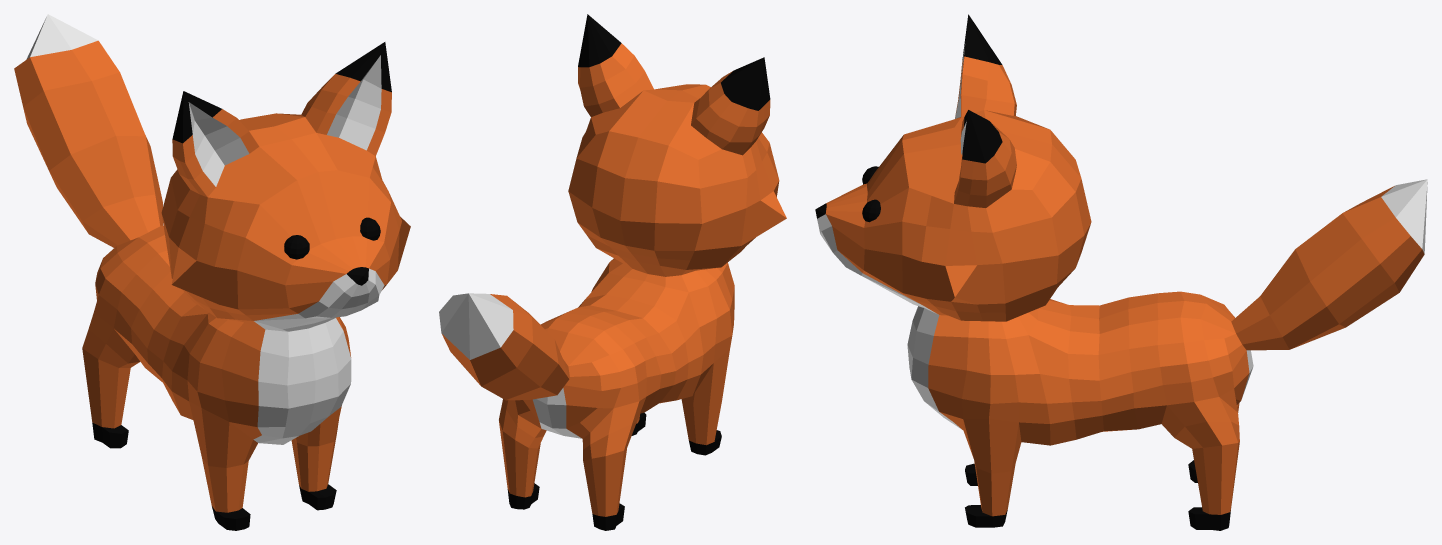
File: fox 2.fbx
The picture shows the model from 3 angles, left to right: view 1: azimuth 30°, elevation 25°; view 2: azimuth 150°, elevation 25°; view 3: azimuth 270°, elevation 25°; orthographic projection. The views are drawn at different scales.
Visible parts, largest first — view 1: Cube, Sphere.001; view 2: Cube; view 3: Cube.
Boxes of the visible parts, left/top/right/bottom form: Cube: left=14, top=14, right=410, bottom=530; Sphere.001: left=284, top=235, right=309, bottom=259; Cube: left=439, top=14, right=786, bottom=530; Cube: left=815, top=14, right=1427, bottom=530.
Size of the model in its own units: 299 by 543 by 683.
